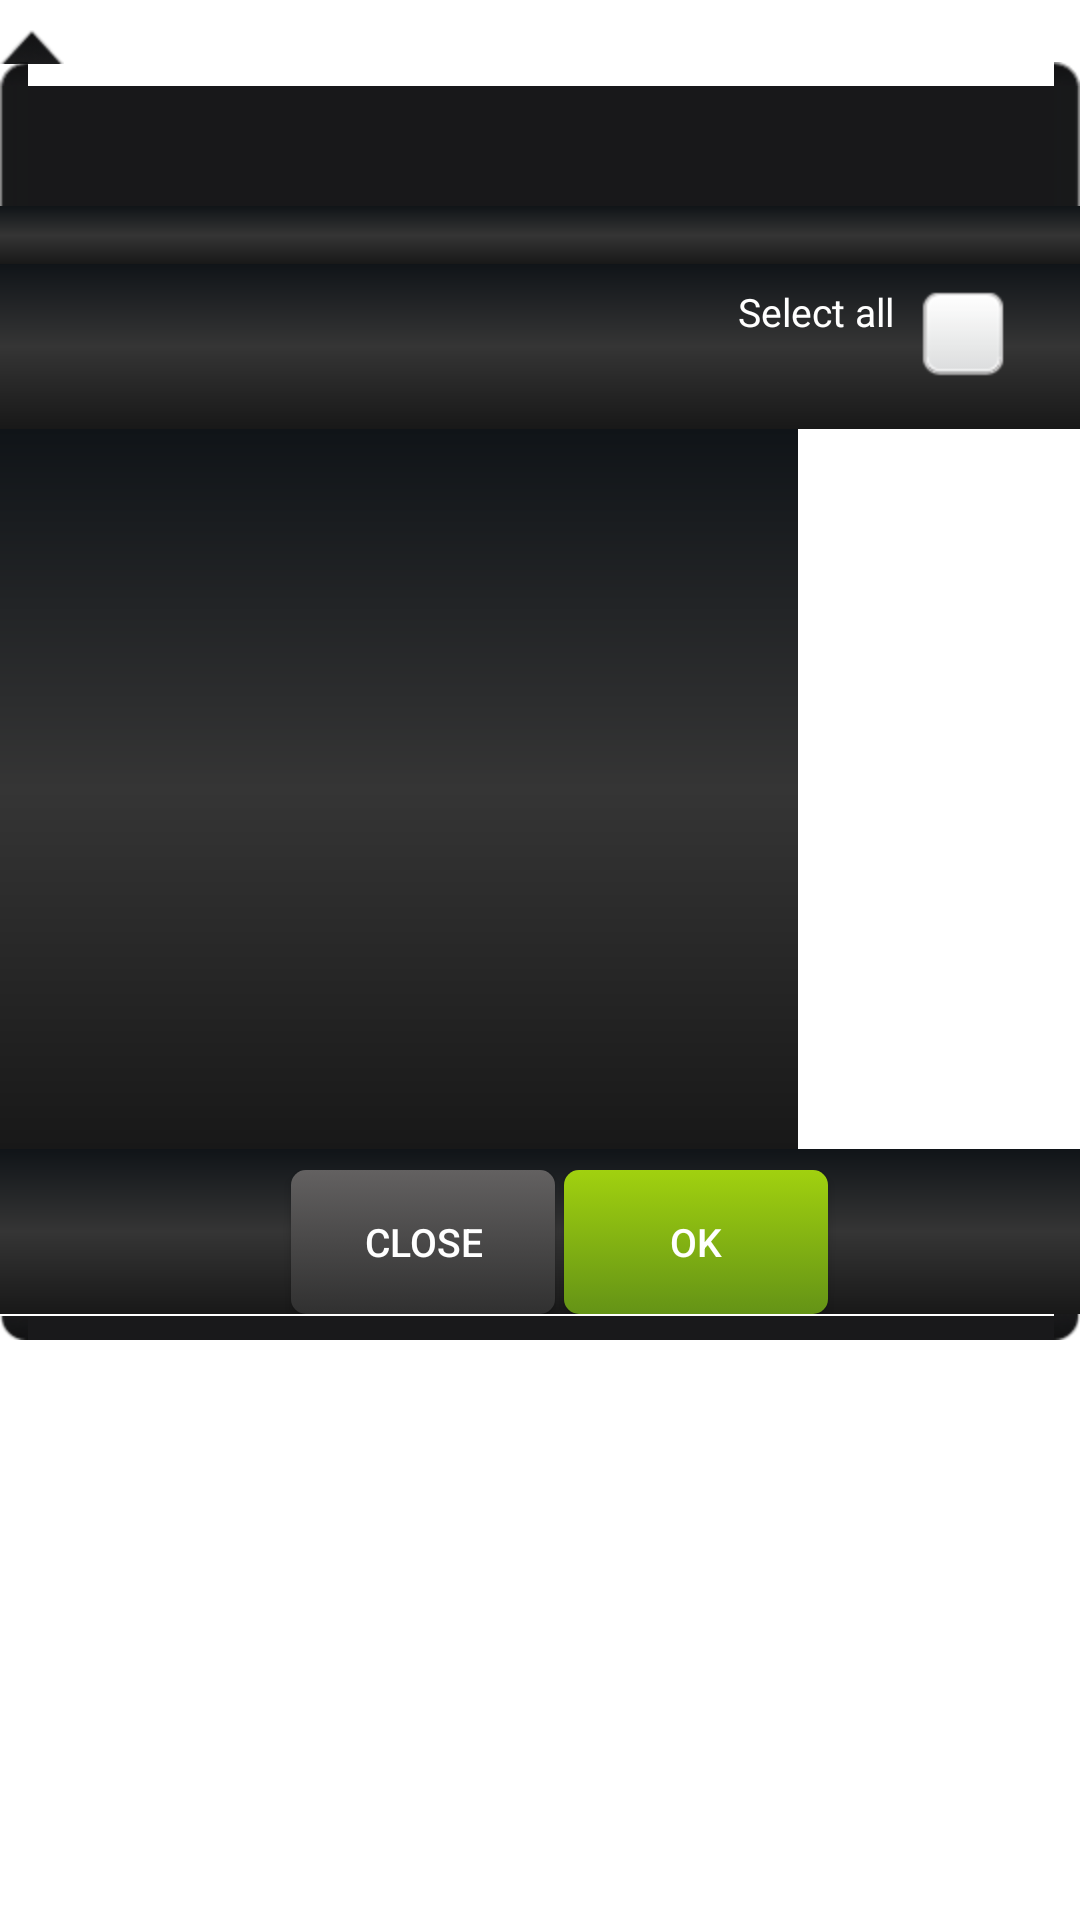

Where to tap for icons on this 1080w x 1920h app screen, as (x,y):
custom checkbox: (987,334)
quickcontact arrow up: (32,47)
